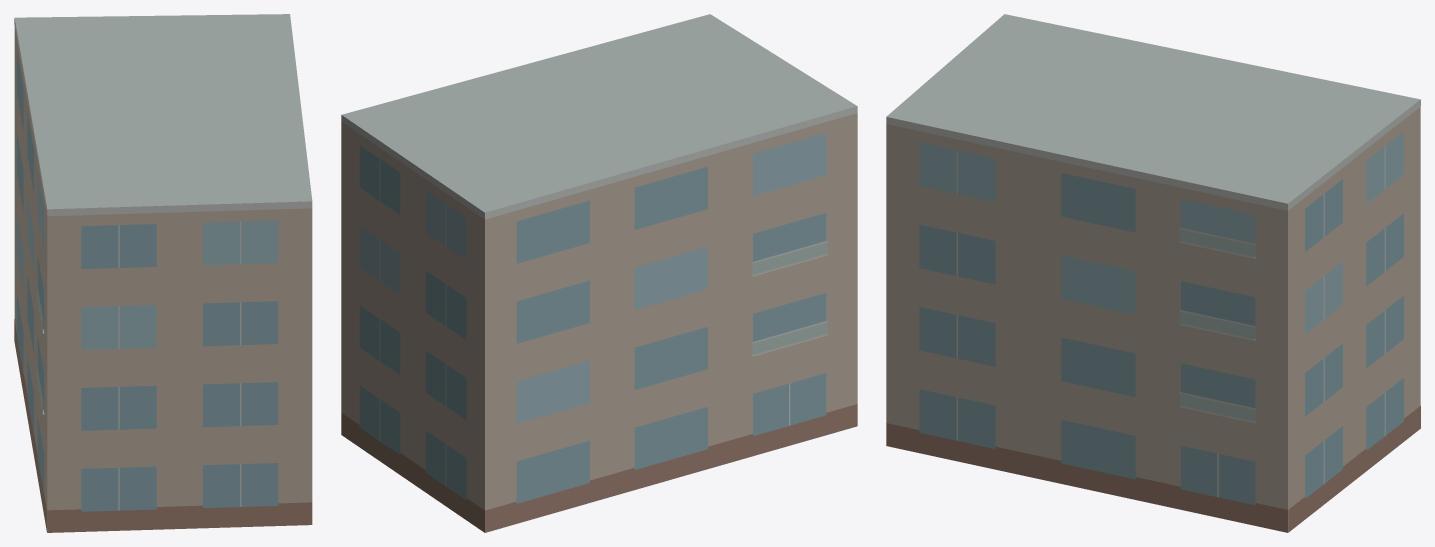
Rendered from survey-upis-32660314.glb.
3 views of the same model, side by side, from view 1: azimuth 30°, elevation 25°; view 2: azimuth 150°, elevation 25°; view 3: azimuth 270°, elevation 25° (orthographic). The views are drawn at different scales.
Parts seen in each view (by area): view 1: survey-upis-32660314.tmp; view 2: survey-upis-32660314.tmp; view 3: survey-upis-32660314.tmp.
Boxes of the visible parts, x1,y1,x2,y2 form: survey-upis-32660314.tmp: [14, 14, 312, 532]; survey-upis-32660314.tmp: [341, 14, 857, 532]; survey-upis-32660314.tmp: [886, 14, 1420, 532].
Size of the model in its own units: 14.1 by 11.4 by 16.79.
